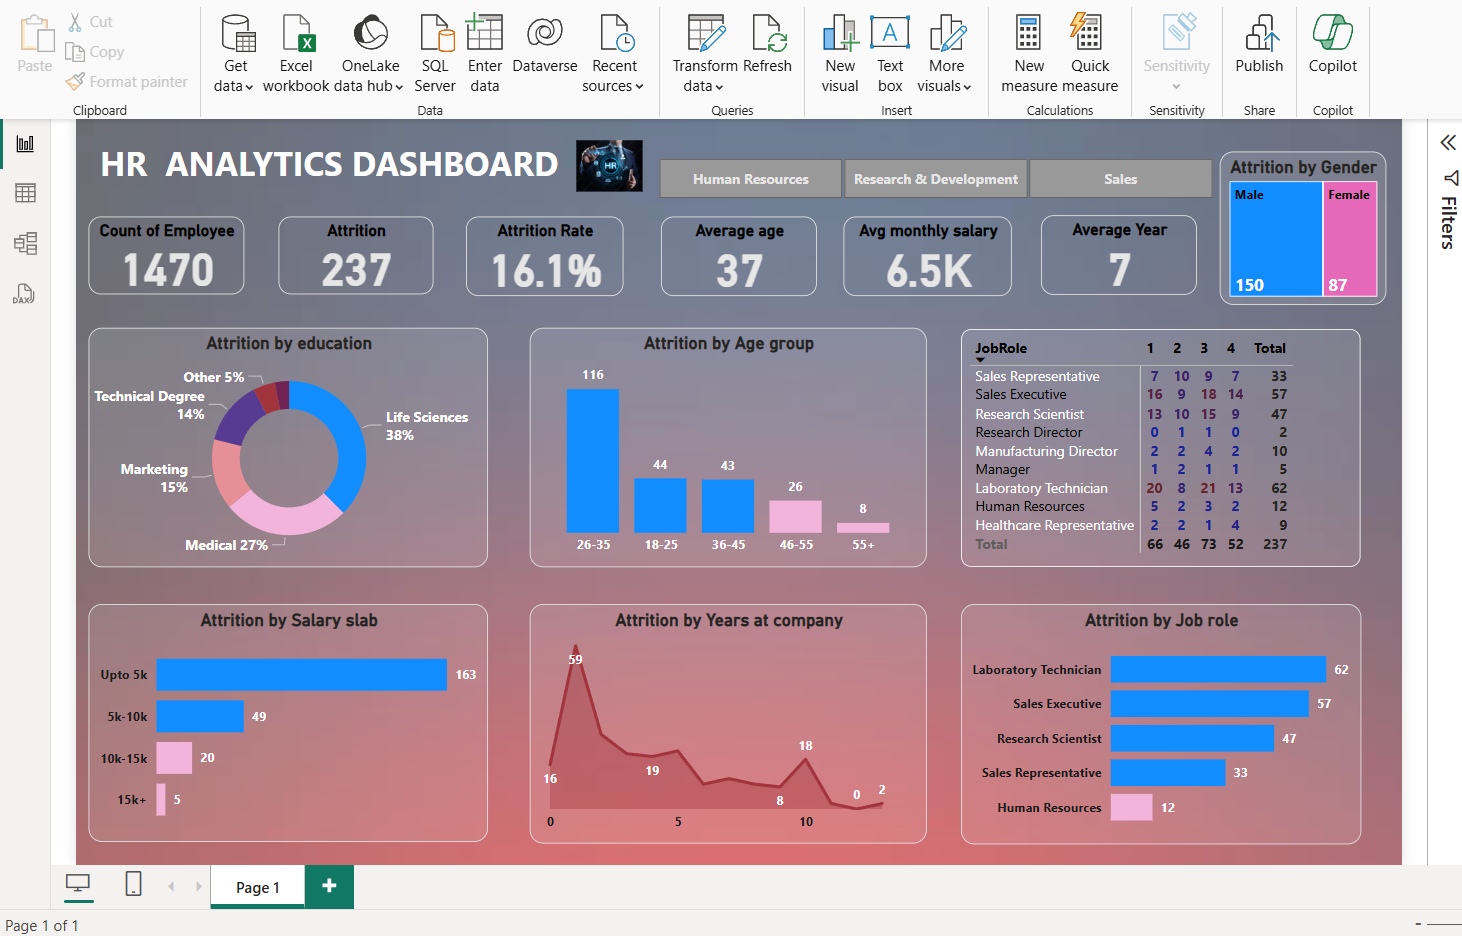

This screenshot's page, from the dashboard's own definition file:
{"tool":"powerbi","page":{"name":"Page 1","canvas":[1280,720],"ordinal":0},"visuals":[{"type":"card","title":"Count of Employee","fields":{"Values":["CountNonNull(HR_Analytics.EmpID)"]},"box":[12.1,94.1,150.6,75.3],"z":0},{"type":"card","title":"Attrition","fields":{"Values":["Sum(HR_Analytics.Attrition count)"]},"box":[195,94.1,149.3,75.3],"z":1000},{"type":"card","title":"Attrition Rate","fields":{"Values":["HR_Analytics.Attritions Rate"]},"box":[376.6,94.1,152,76.7],"z":2000},{"type":"card","title":"Average age ","fields":{"Values":["Avg(HR_Analytics.Age)"]},"box":[564.8,94.1,150.6,76.7],"z":3000},{"type":"card","title":"Avg monthly salary","fields":{"Values":["Avg(HR_Analytics.MonthlyIncome)"]},"box":[741,94.1,162.7,76.7],"z":4000},{"type":"card","title":"Average Year","fields":{"Values":["Avg(HR_Analytics.YearsAtCompany)"]},"box":[932,92.8,150.6,76.7],"z":5000},{"type":"donutChart","title":"Attrition by education","fields":{"Y":["Sum(HR_Analytics.Attrition count)"],"Category":["HR_Analytics.EducationField"]},"box":[12.1,201.7,386,231.3],"z":6000},{"type":"columnChart","title":"Attrition by Age group","fields":{"Category":["HR_Analytics.AgeGroup"],"Y":["Sum(HR_Analytics.Attrition count)"]},"box":[438.4,201.7,383.3,231.3],"z":7000},{"type":"pivotTable","title":"Attrition by satisfaction rating","fields":{"Rows":["HR_Analytics.JobRole"],"Values":["Sum(HR_Analytics.Attrition count)"],"Columns":["HR_Analytics.JobSatisfaction"]},"box":[854,203.1,386,230],"z":8000},{"type":"barChart","title":"Attrition by Salary slab","fields":{"Category":["HR_Analytics.SalarySlab"],"Y":["Sum(HR_Analytics.Attrition count)"]},"box":[12.1,468,386,230],"z":9000},{"type":"areaChart","title":"Attrition by Years at company","fields":{"Category":["HR_Analytics.YearsAtCompany"],"Y":["Sum(HR_Analytics.Attrition count)"]},"box":[438.4,468,383.3,231.3],"z":10000},{"type":"barChart","title":"Attrition by Job role ","fields":{"Y":["Sum(HR_Analytics.Attrition count)"],"Category":["HR_Analytics.JobRole"]},"box":[854.2,468.1,386.1,231.6],"z":11000},{"type":"treemap","title":"Attrition by Gender","fields":{"Values":["Sum(HR_Analytics.Attrition count)"],"Group":["HR_Analytics.Gender"]},"box":[1103.9,31.4,160.5,148.4],"z":12000},{"type":"slicer","fields":{"Values":["HR_Analytics.Department"]},"box":[536.9,31.4,583.9,51.9],"z":13000},{"type":"textbox","box":[12.1,15.7,464.5,59.1],"z":14000},{"type":"image","box":[464.5,15.7,100.1,59.1],"z":15000}]}

Visuals, with their boxes on the page's 1280x720 design canvas (x1, y1, x2, y2). These are canvas units, not pixel positions in the 1462x936 screenshot, which may show the page scaled, cropped or inside an application window:
"Count of Employee" card: {"x1": 12, "y1": 94, "x2": 163, "y2": 169}
"Attrition" card: {"x1": 195, "y1": 94, "x2": 344, "y2": 169}
"Attrition Rate" card: {"x1": 377, "y1": 94, "x2": 529, "y2": 171}
"Average age " card: {"x1": 565, "y1": 94, "x2": 715, "y2": 171}
"Avg monthly salary" card: {"x1": 741, "y1": 94, "x2": 904, "y2": 171}
"Average Year" card: {"x1": 932, "y1": 93, "x2": 1083, "y2": 170}
"Attrition by education" donutChart: {"x1": 12, "y1": 202, "x2": 398, "y2": 433}
"Attrition by Age group" columnChart: {"x1": 438, "y1": 202, "x2": 822, "y2": 433}
"Attrition by satisfaction rating" pivotTable: {"x1": 854, "y1": 203, "x2": 1240, "y2": 433}
"Attrition by Salary slab" barChart: {"x1": 12, "y1": 468, "x2": 398, "y2": 698}
"Attrition by Years at company" areaChart: {"x1": 438, "y1": 468, "x2": 822, "y2": 699}
"Attrition by Job role " barChart: {"x1": 854, "y1": 468, "x2": 1240, "y2": 700}
"Attrition by Gender" treemap: {"x1": 1104, "y1": 31, "x2": 1264, "y2": 180}
slicer - HR_Analytics.Department: {"x1": 537, "y1": 31, "x2": 1121, "y2": 83}
textbox: {"x1": 12, "y1": 16, "x2": 477, "y2": 75}
image: {"x1": 464, "y1": 16, "x2": 565, "y2": 75}
